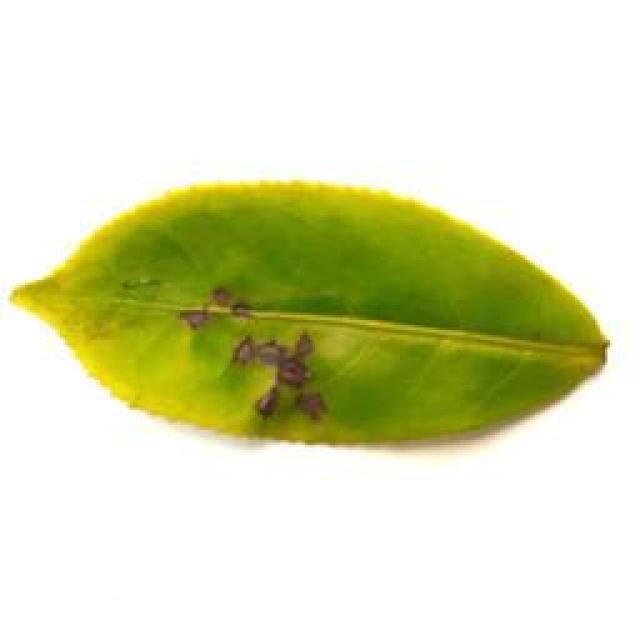Helopeltis: (2, 168, 640, 458)
